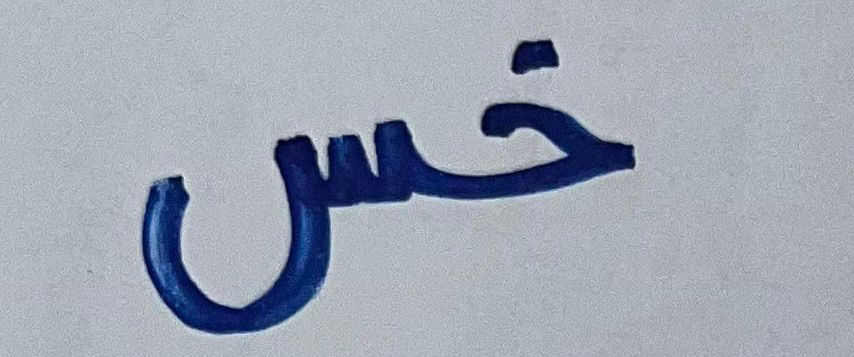khah: (445, 19, 664, 227)
seen: (120, 95, 436, 347)
